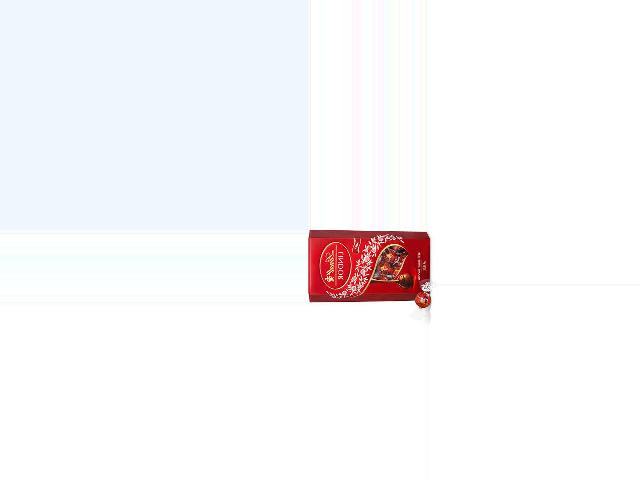chocolate: (308, 231, 429, 309)
